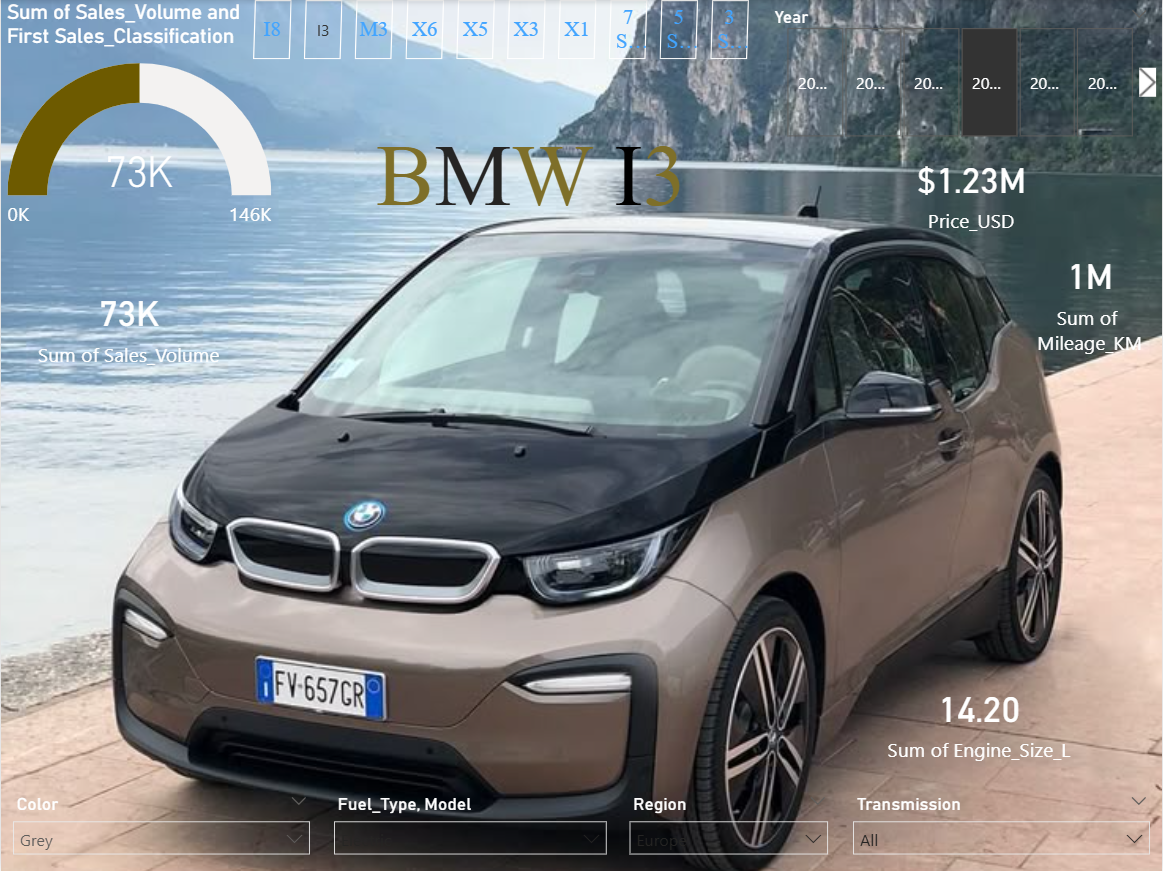

What the dashboard file says about the page in this screenshot:
{"tool":"powerbi","page":{"name":"I3","canvas":[960,720],"ordinal":2},"visuals":[{"type":"card","fields":{"Values":["Sum(BMW sales data (2010-2024) (1).Mileage_KM)"]},"box":[839.1,138.9,120.5,197],"z":0},{"type":"slicer","fields":{"Values":["BMW sales data (2010-2024) (1).Transmission"]},"box":[694.5,650.6,265,69.4],"z":1000},{"type":"card","fields":{"Values":["Sum(BMW sales data (2010-2024) (1).Engine_Size_L)"]},"box":[687.4,551.3,242.4,86.5],"z":2000},{"type":"slicer","fields":{"Values":["BMW sales data (2010-2024) (1).Fuel_Type","BMW sales data (2010-2024) (1).Model"]},"box":[265,650.6,245.2,69.4],"z":3000},{"type":"slicer","fields":{"Values":["BMW sales data (2010-2024) (1).Year"]},"box":[626.2,0,333.6,117.8],"z":4000},{"type":"gauge","fields":{"Y":["Sum(BMW sales data (2010-2024) (1).Sales_Volume)"]},"box":[0,0,228.2,205.5],"z":5000},{"type":"card","fields":{"Values":["Sum(BMW sales data (2010-2024) (1).Sales_Volume)"]},"box":[21.1,217,168.6,101.7],"z":6000},{"type":"textbox","box":[304.7,99.2,304.7,117.6],"z":7000},{"type":"slicer","fields":{"Values":["BMW sales data (2010-2024) (1).Region"]},"box":[510.2,650.6,184.3,69.4],"z":8000},{"type":"card","fields":{"Values":["Sum(BMW sales data (2010-2024) (1).Price_USD)"]},"box":[687.4,76.5,229.6,161.6],"z":9000},{"type":"slicer","fields":{"Values":["BMW sales data (2010-2024) (1).Color"]},"box":[0,650.6,265,69.4],"z":10000},{"type":"pageNavigator","box":[208.3,0,417.9,49.6],"z":11000}]}

Visuals, with their boxes in screenshot pixels (x1, y1, x2, y2), scaled from the page's 960x720 canvas onto the 1163x871 screenshot:
card - Sum(BMW sales data (2010-2024) (1).Mileage_KM): select_region(1017, 168, 1162, 406)
slicer - BMW sales data (2010-2024) (1).Transmission: select_region(841, 787, 1162, 870)
card - Sum(BMW sales data (2010-2024) (1).Engine_Size_L): select_region(833, 667, 1126, 772)
slicer - BMW sales data (2010-2024) (1).Fuel_Type x BMW sales data (2010-2024) (1).Model: select_region(321, 787, 618, 870)
slicer - BMW sales data (2010-2024) (1).Year: select_region(759, 0, 1162, 143)
gauge - Sum(BMW sales data (2010-2024) (1).Sales_Volume): select_region(0, 0, 276, 249)
card - Sum(BMW sales data (2010-2024) (1).Sales_Volume): select_region(26, 263, 230, 386)
textbox: select_region(369, 120, 738, 262)
slicer - BMW sales data (2010-2024) (1).Region: select_region(618, 787, 841, 870)
card - Sum(BMW sales data (2010-2024) (1).Price_USD): select_region(833, 93, 1111, 288)
slicer - BMW sales data (2010-2024) (1).Color: select_region(0, 787, 321, 870)
pageNavigator: select_region(252, 0, 759, 60)
